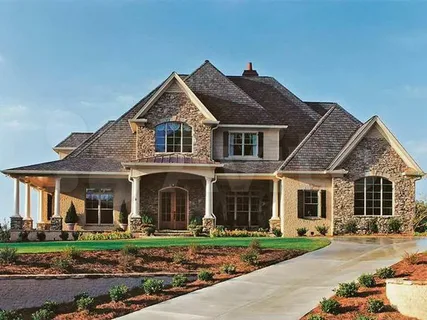private_hause: (63, 76, 417, 237)
